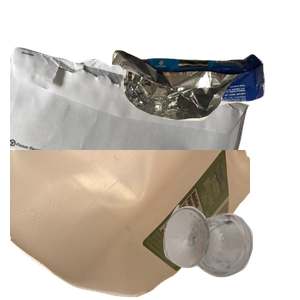glass: (161, 202, 300, 300)
paper: (10, 45, 250, 225)
plastic: (10, 150, 250, 300)
trash: (109, 47, 300, 160)
